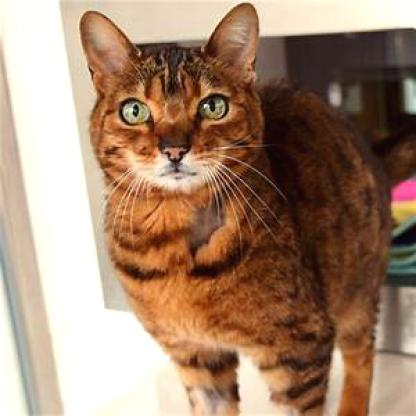cat: (79, 1, 392, 414)
